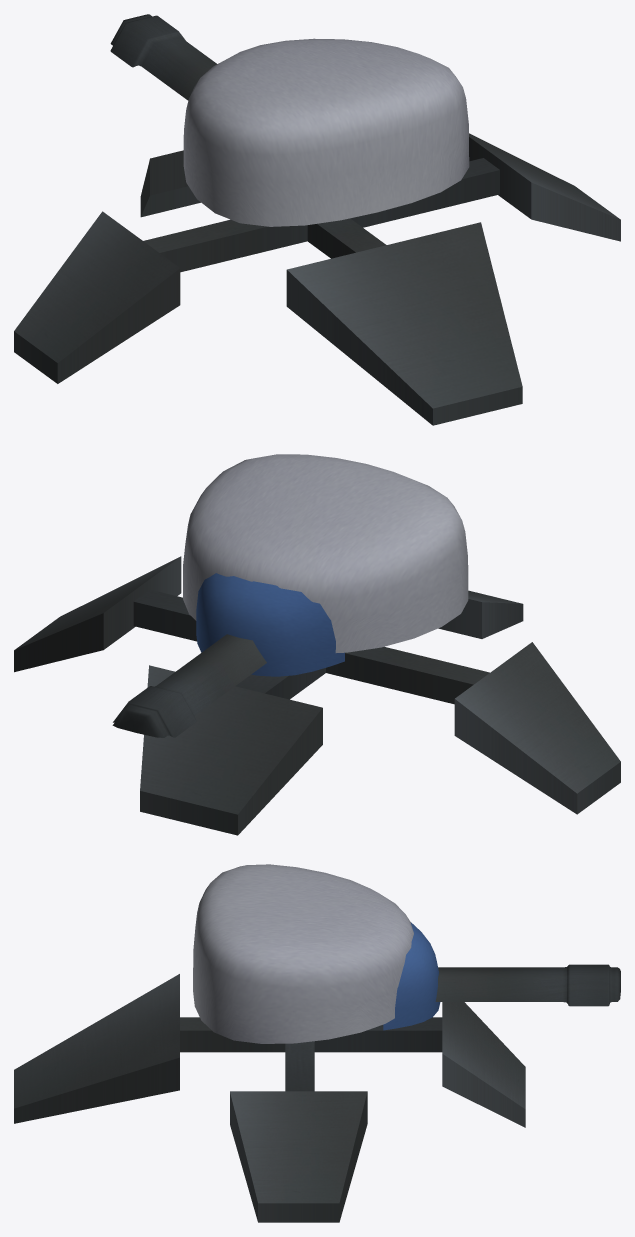
File: mortar01.fbx
3 views of the same model, one above another, from view 1: azimuth 30°, elevation 25°; view 2: azimuth 150°, elevation 25°; view 3: azimuth 270°, elevation 25° (orthographic). The views are drawn at different scales.
Parts seen in each view (by area): view 1: polySurface610, polySurface564; view 2: polySurface564, polySurface610; view 3: polySurface564, polySurface610.
Part boxes in pixels (<box>): polySurface610: <box>14,133,620,425</box>; polySurface564: <box>110,14,469,226</box>; polySurface564: <box>112,454,468,737</box>; polySurface610: <box>14,556,620,835</box>; polySurface564: <box>193,864,620,1043</box>; polySurface610: <box>14,974,525,1222</box>.
Bounding box in the file's own units: 23.67 × 9.46 × 24.98.
